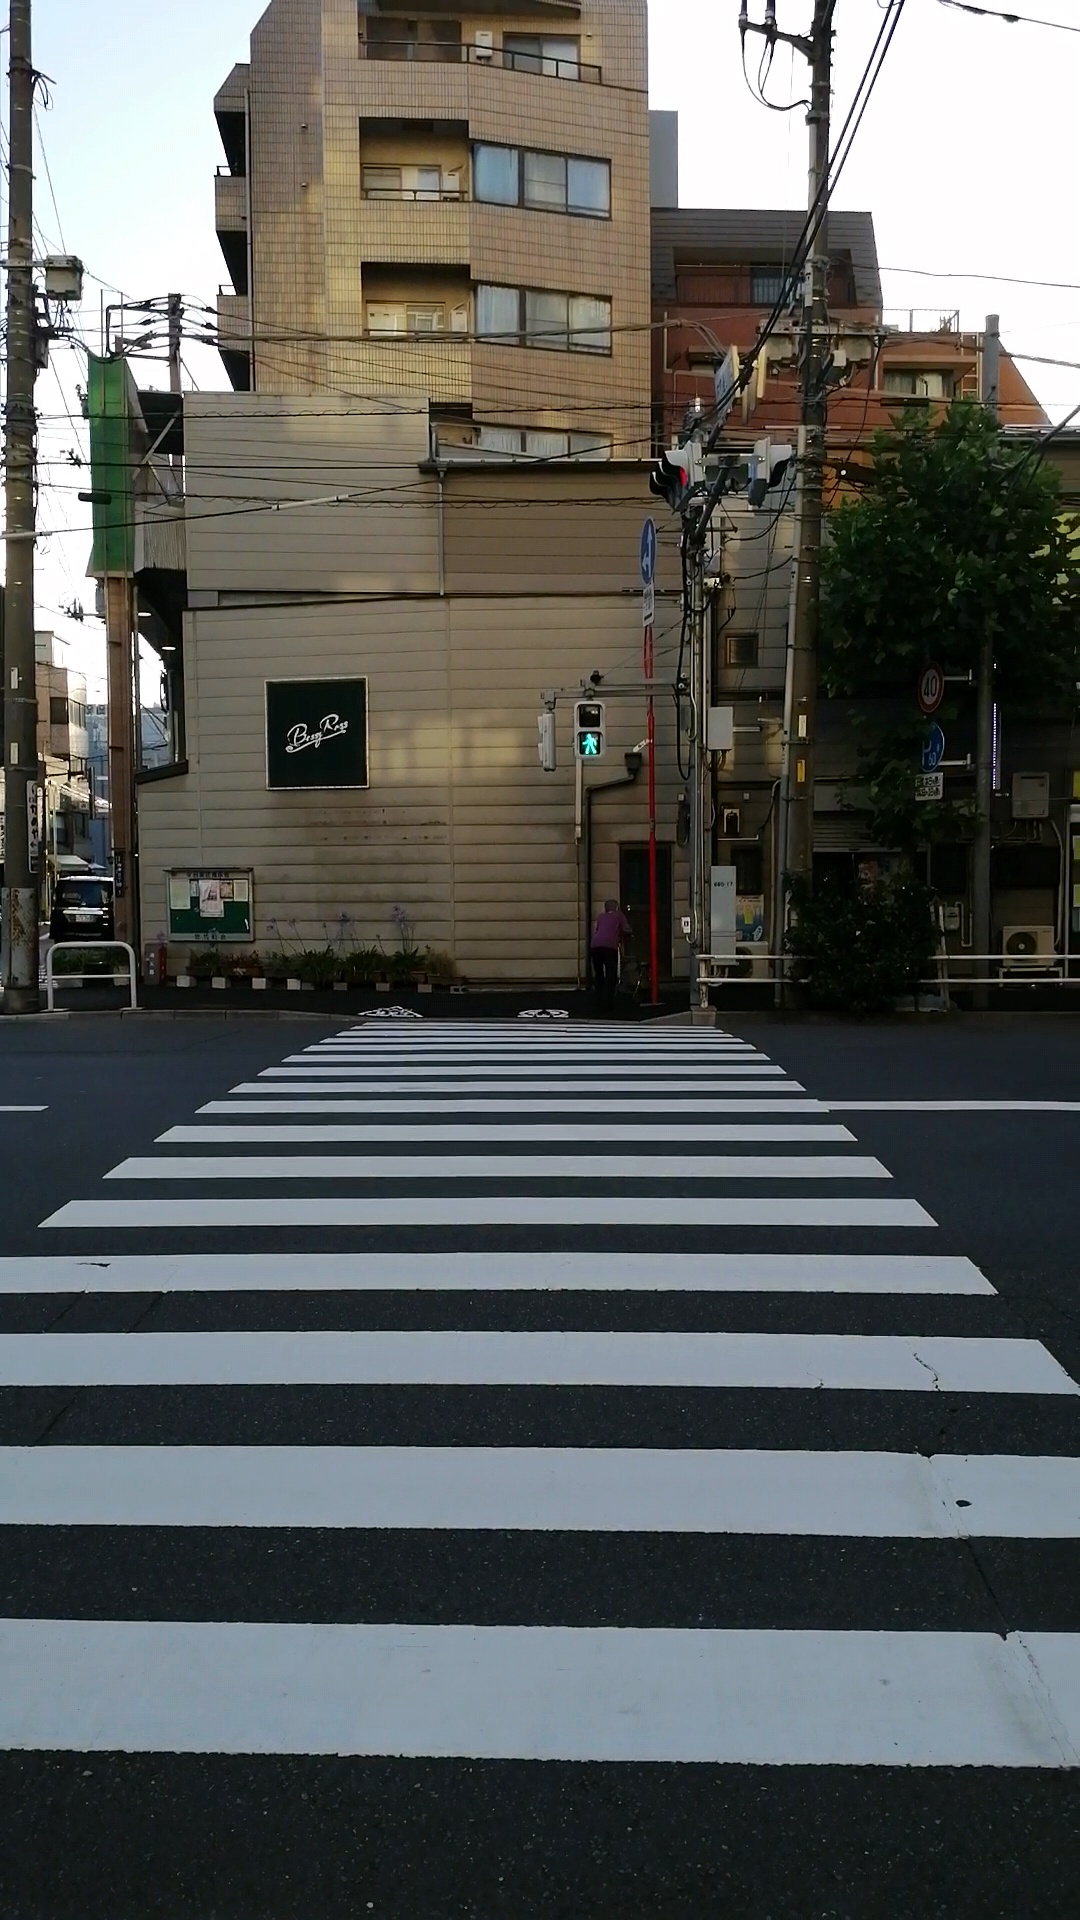green: (572, 699, 604, 760)
